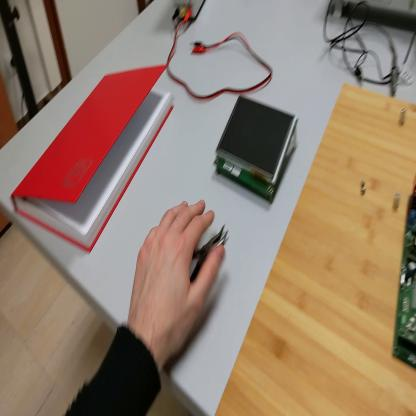hand: (128, 198, 225, 363)
low voltage board: (392, 182, 415, 375)
oscilloscope: (333, 2, 416, 24)
oscilloscope probe tip: (389, 36, 399, 98)
pliers: (191, 215, 234, 285)
power supply: (171, 1, 206, 24)
register: (11, 69, 175, 256)
working area: (219, 80, 416, 414)
